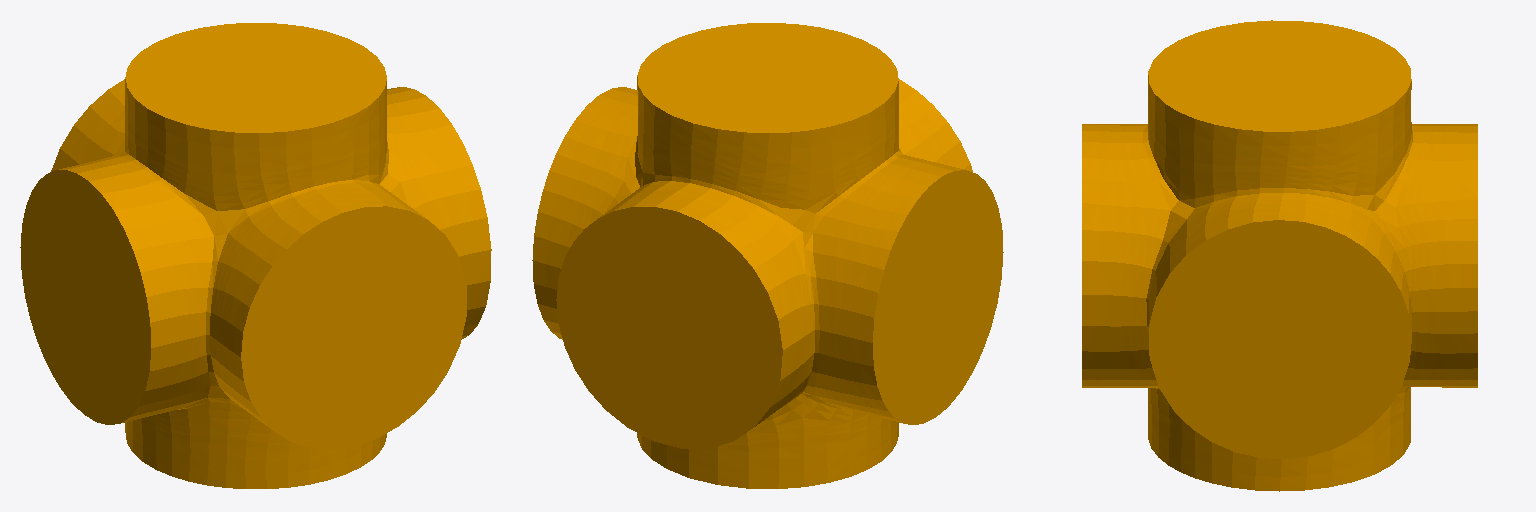
The robot description file, URDF, robot "object":
<robot name="object">
  <link name="object">
    <visual>
      <origin xyz="0 0 0"/>
      <geometry>
        <mesh filename="visual.obj" scale="1 1 1"/>
      </geometry>
    </visual>
    <collision>
      <origin xyz="0 0 0"/>
      <geometry>
        <mesh filename="visual.obj" scale="1 1 1"/>
      </geometry>
    </collision>
    <inertial>
      <mass value="0.05"/>
      <inertia ixx="5.3472571714038564e-05" iyy="5.3484719927643865e-05" izz="5.346949461199247e-05" ixy="-1.411928082168562e-08" ixz="-8.01962981134539e-10" iyz="-1.4955416923348062e-08"/>
    </inertial>
  </link>
</robot>

--- What the picture shows (computed from the rendered views, not written in the file) ---
The picture shows the robot from 3 angles, left to right: view 1: azimuth 30°, elevation 25°; view 2: azimuth 150°, elevation 25°; view 3: azimuth 270°, elevation 25°; orthographic projection.
Model object with 1 links and 0 joints (none), rooted at object, posed every joint at zero.
Visible links, largest first — view 1: object; view 2: object; view 3: object.
Boxes of the visible links, bbox=[...] form: object: bbox=[20, 23, 491, 488]; object: bbox=[532, 23, 1003, 488]; object: bbox=[1082, 20, 1477, 491].
Size in the robot's own frame: 0.096 by 0.096 by 0.096 metres.
Meshes: 1 distinct files referenced, 1 mesh visuals loaded (1 OBJ).
